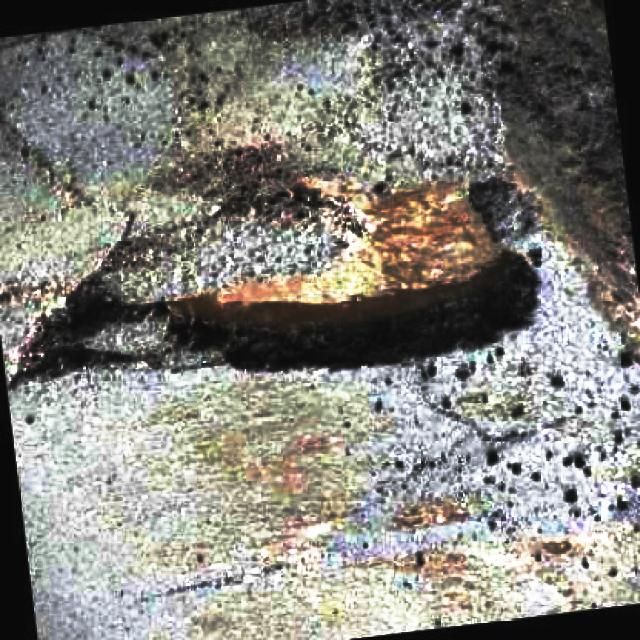pothole: (1, 169, 548, 394)
